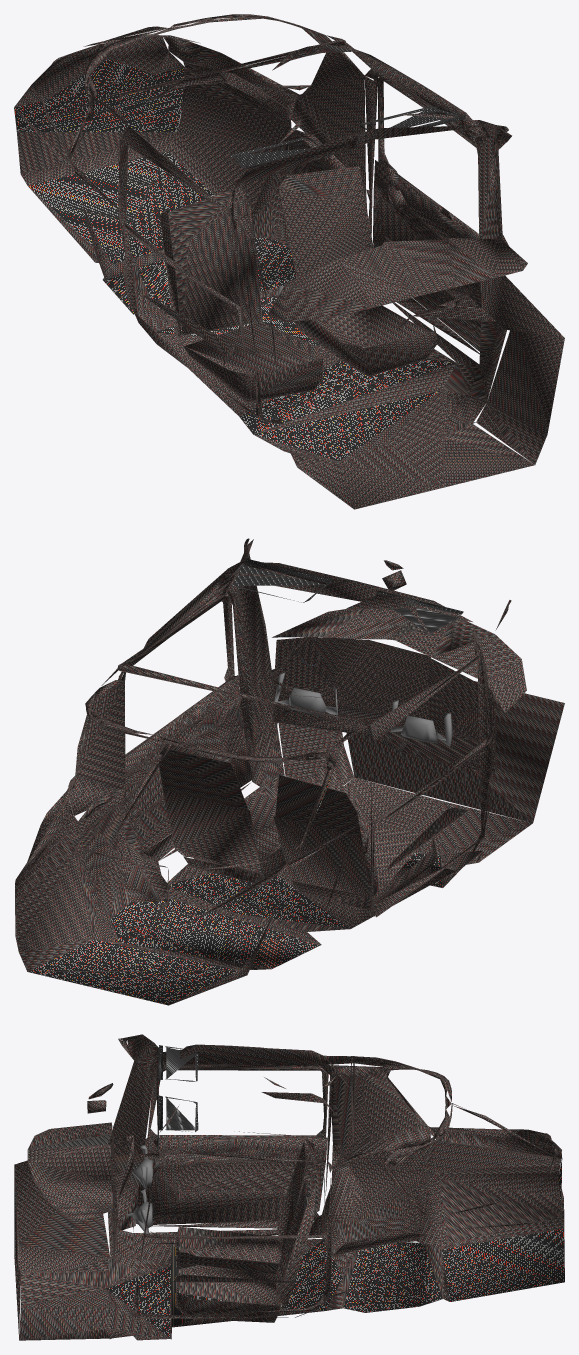
File: C152_cockpit_LOD04.gltf
The picture shows the model from 3 angles, top to bottom: view 1: azimuth 30°, elevation 25°; view 2: azimuth 150°, elevation 25°; view 3: azimuth 270°, elevation 25°; orthographic projection. The views are drawn at different scales.
Visible parts, largest first — view 1: Shell_NORMAL, Cockpit, Sun_visors; view 2: Shell_NORMAL, Cockpit, Sun_visors, HANDLING_Yoke_2, HANDLING_Yoke_1; view 3: Shell_NORMAL, Cockpit, Sun_visors, HANDLING_Yoke_1, HANDLING_Yoke_2.
Part boxes in pixels (left/top/right/bottom): Shell_NORMAL: left=14, top=14, right=564, bottom=509; Cockpit: left=118, top=77, right=527, bottom=413; Sun_visors: left=226, top=105, right=465, bottom=168; Shell_NORMAL: left=15, top=538, right=564, bottom=1005; Cockpit: left=118, top=560, right=526, bottom=909; Sun_visors: left=227, top=558, right=463, bottom=634; HANDLING_Yoke_2: left=391, top=700, right=452, bottom=746; HANDLING_Yoke_1: left=274, top=672, right=337, bottom=717; Shell_NORMAL: left=14, top=1034, right=564, bottom=1340; Cockpit: left=27, top=1068, right=328, bottom=1322; Sun_visors: left=158, top=1045, right=198, bottom=1131; HANDLING_Yoke_1: left=125, top=1189, right=152, bottom=1233; HANDLING_Yoke_2: left=131, top=1145, right=152, bottom=1190.
Size of what is drawn, in the model's own units: 1.05 by 1.12 by 2.39.
